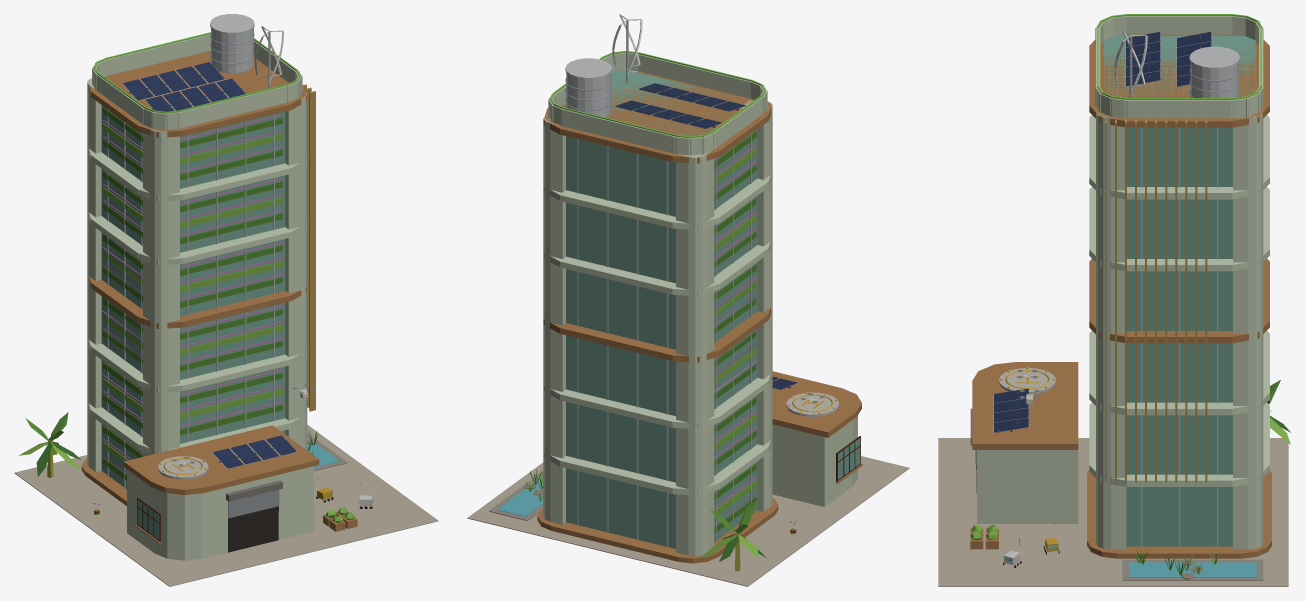
File: factory_2.glb
3 views of the same model, side by side, from view 1: azimuth 30°, elevation 25°; view 2: azimuth 150°, elevation 25°; view 3: azimuth 270°, elevation 25° (orthographic). The views are drawn at different scales.
Parts seen in each view (by area): view 1: body, windows; view 2: body, windows; view 3: body, windows.
Part boxes in pixels (x1=…): body: x1=14, y1=14, x2=438, y2=586; windows: x1=93, y1=32, x2=373, y2=552; body: x1=467, y1=14, x2=909, y2=586; windows: x1=549, y1=51, x2=837, y2=413; body: x1=938, y1=16, x2=1290, y2=586; windows: x1=976, y1=14, x2=1261, y2=561.
Bounding box in the file's own units: 16.08 × 25.52 × 16.04.
